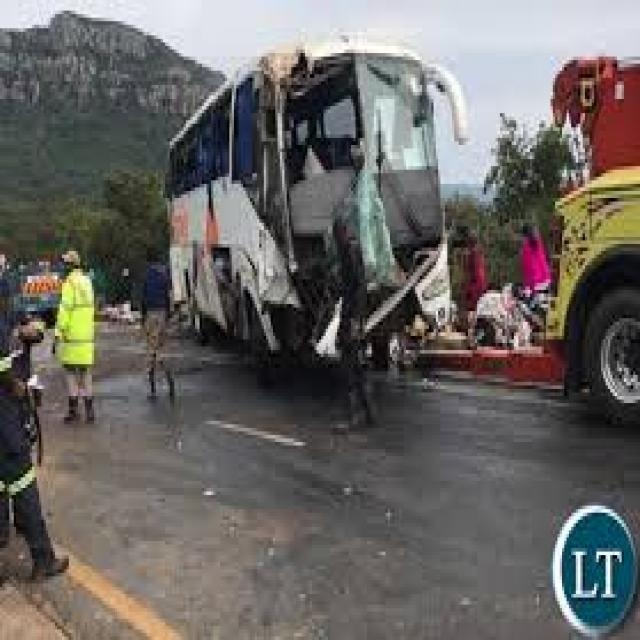accident: (124, 34, 498, 418)
